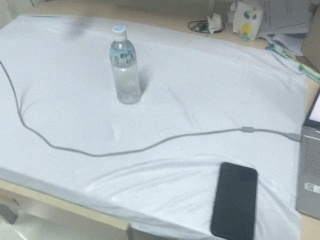bottle: (106, 24, 144, 104)
phone: (209, 162, 260, 240)
